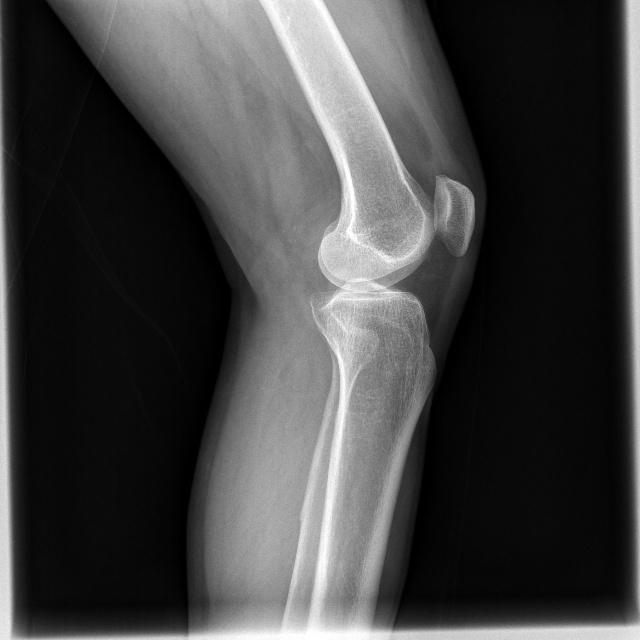Knee: (303, 172, 476, 360)
